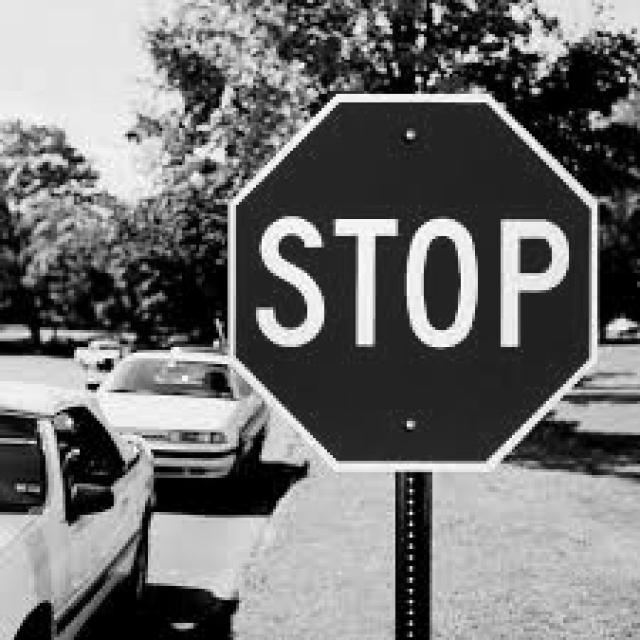stop sign: (232, 96, 592, 466)
